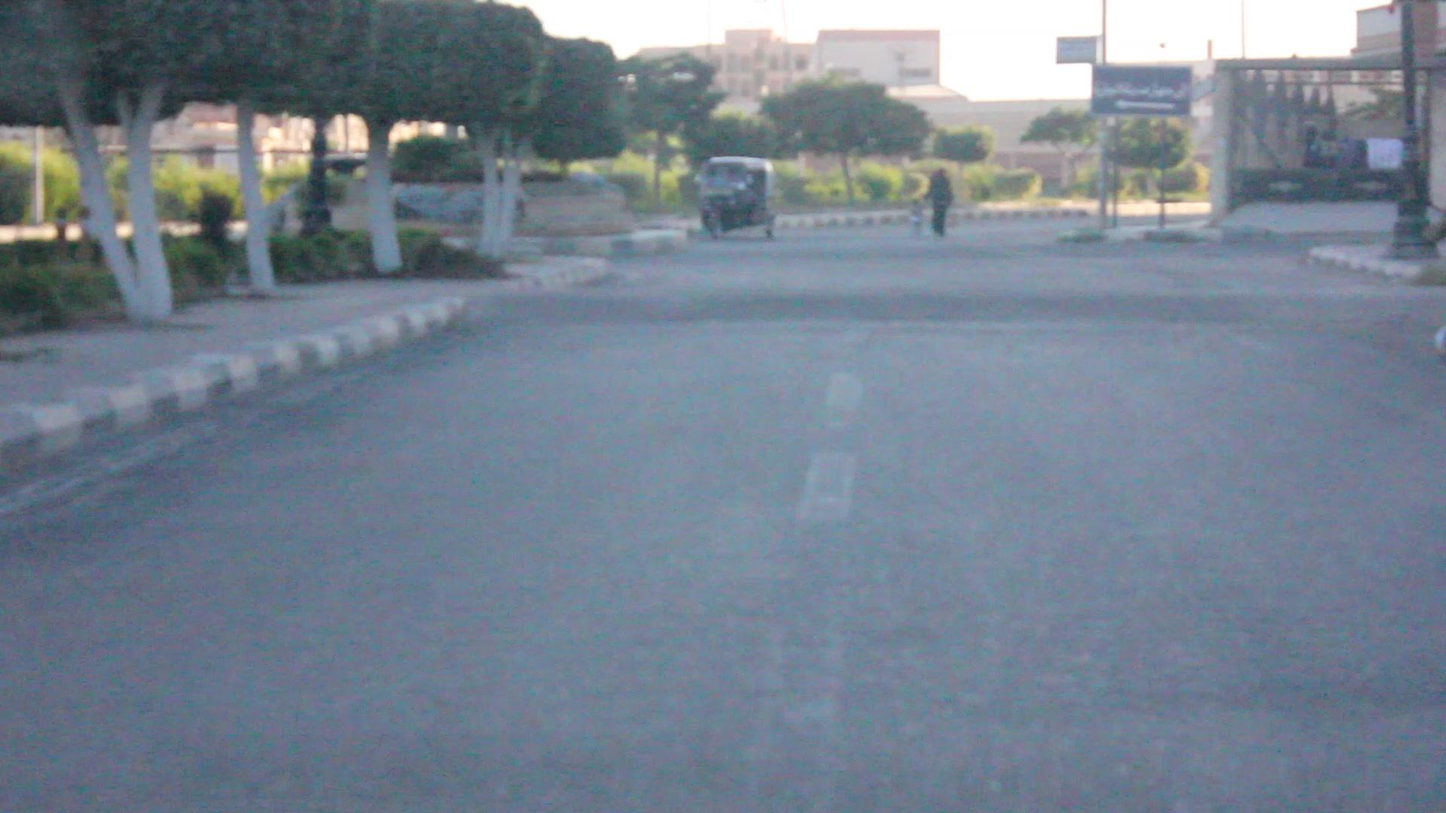Bump: (441, 292, 1438, 338)
